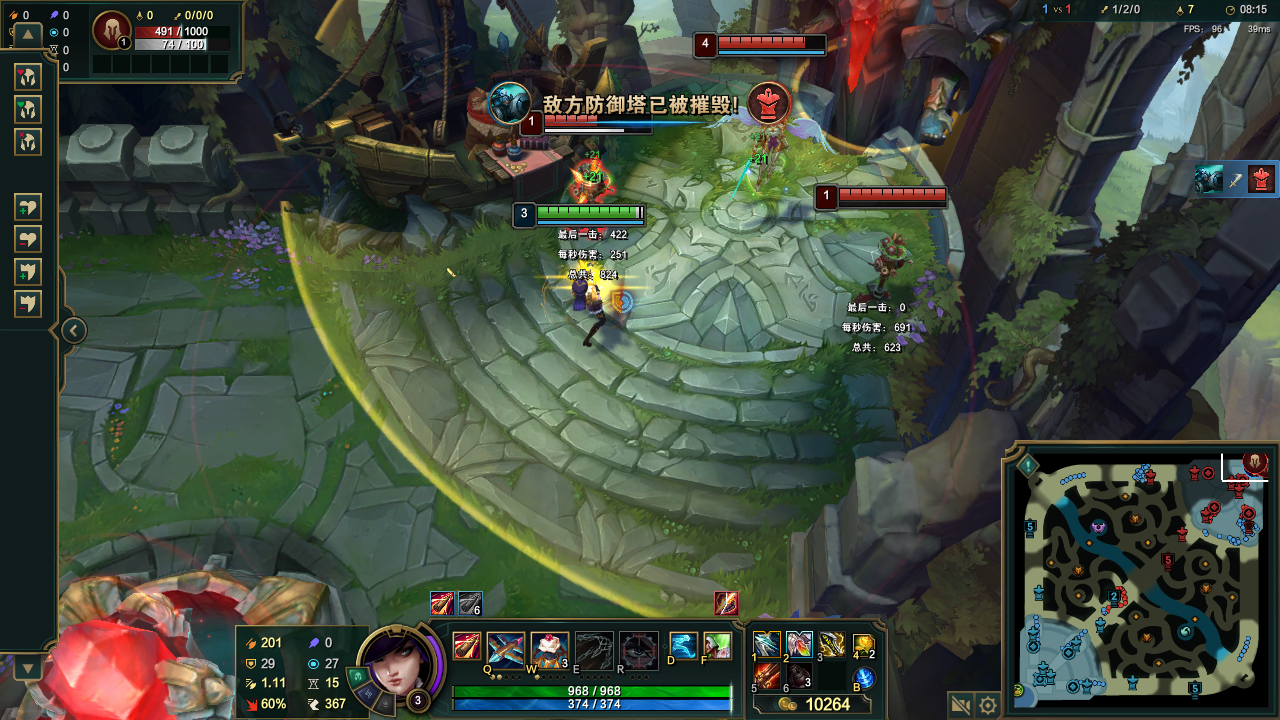DFYX: (715, 32, 831, 53), (836, 185, 950, 200), (538, 116, 660, 128)
